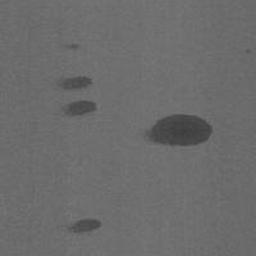Oil spot: (143, 114, 214, 147), (61, 100, 99, 118), (56, 76, 93, 90), (68, 218, 102, 233), (64, 42, 82, 50), (244, 47, 253, 54)
